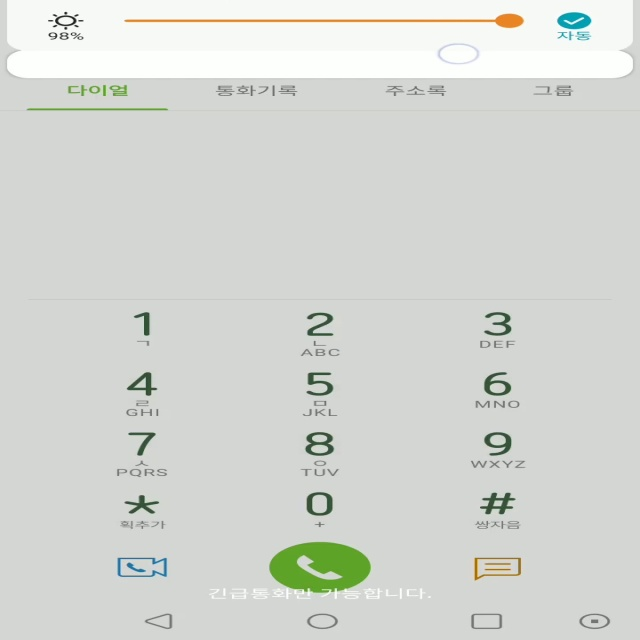Cursor: (437, 43, 481, 65)
